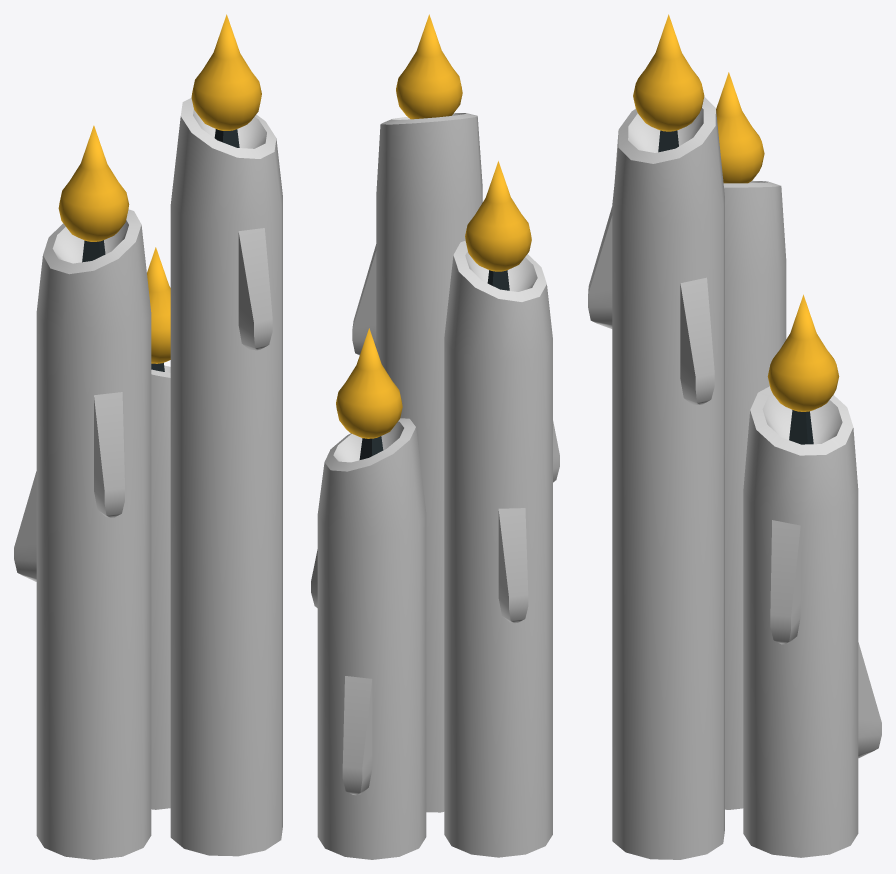
The model's file is candleBundle.gltf.glb.
3 renders of one model, left to right at view 1: azimuth 30°, elevation 25°; view 2: azimuth 150°, elevation 25°; view 3: azimuth 270°, elevation 25°, orthographic. The views are drawn at different scales.
Parts seen in each view (by area): view 1: candleBundle; view 2: candleBundle; view 3: candleBundle.
Boxes of the visible parts, <box> form: candleBundle: <box>14,14,282,859</box>; candleBundle: <box>311,14,559,859</box>; candleBundle: <box>588,14,881,859</box>.
Bounding box in the file's own units: 0.3096 × 1.08 × 0.3487.
